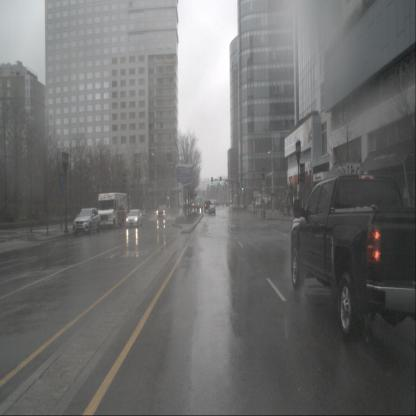vehicle-car: (73, 208, 100, 235), (126, 209, 143, 228), (157, 204, 167, 219), (194, 196, 204, 210), (208, 204, 216, 215)
vehicle-truck: (290, 174, 416, 336), (97, 192, 127, 230), (204, 201, 212, 212)
